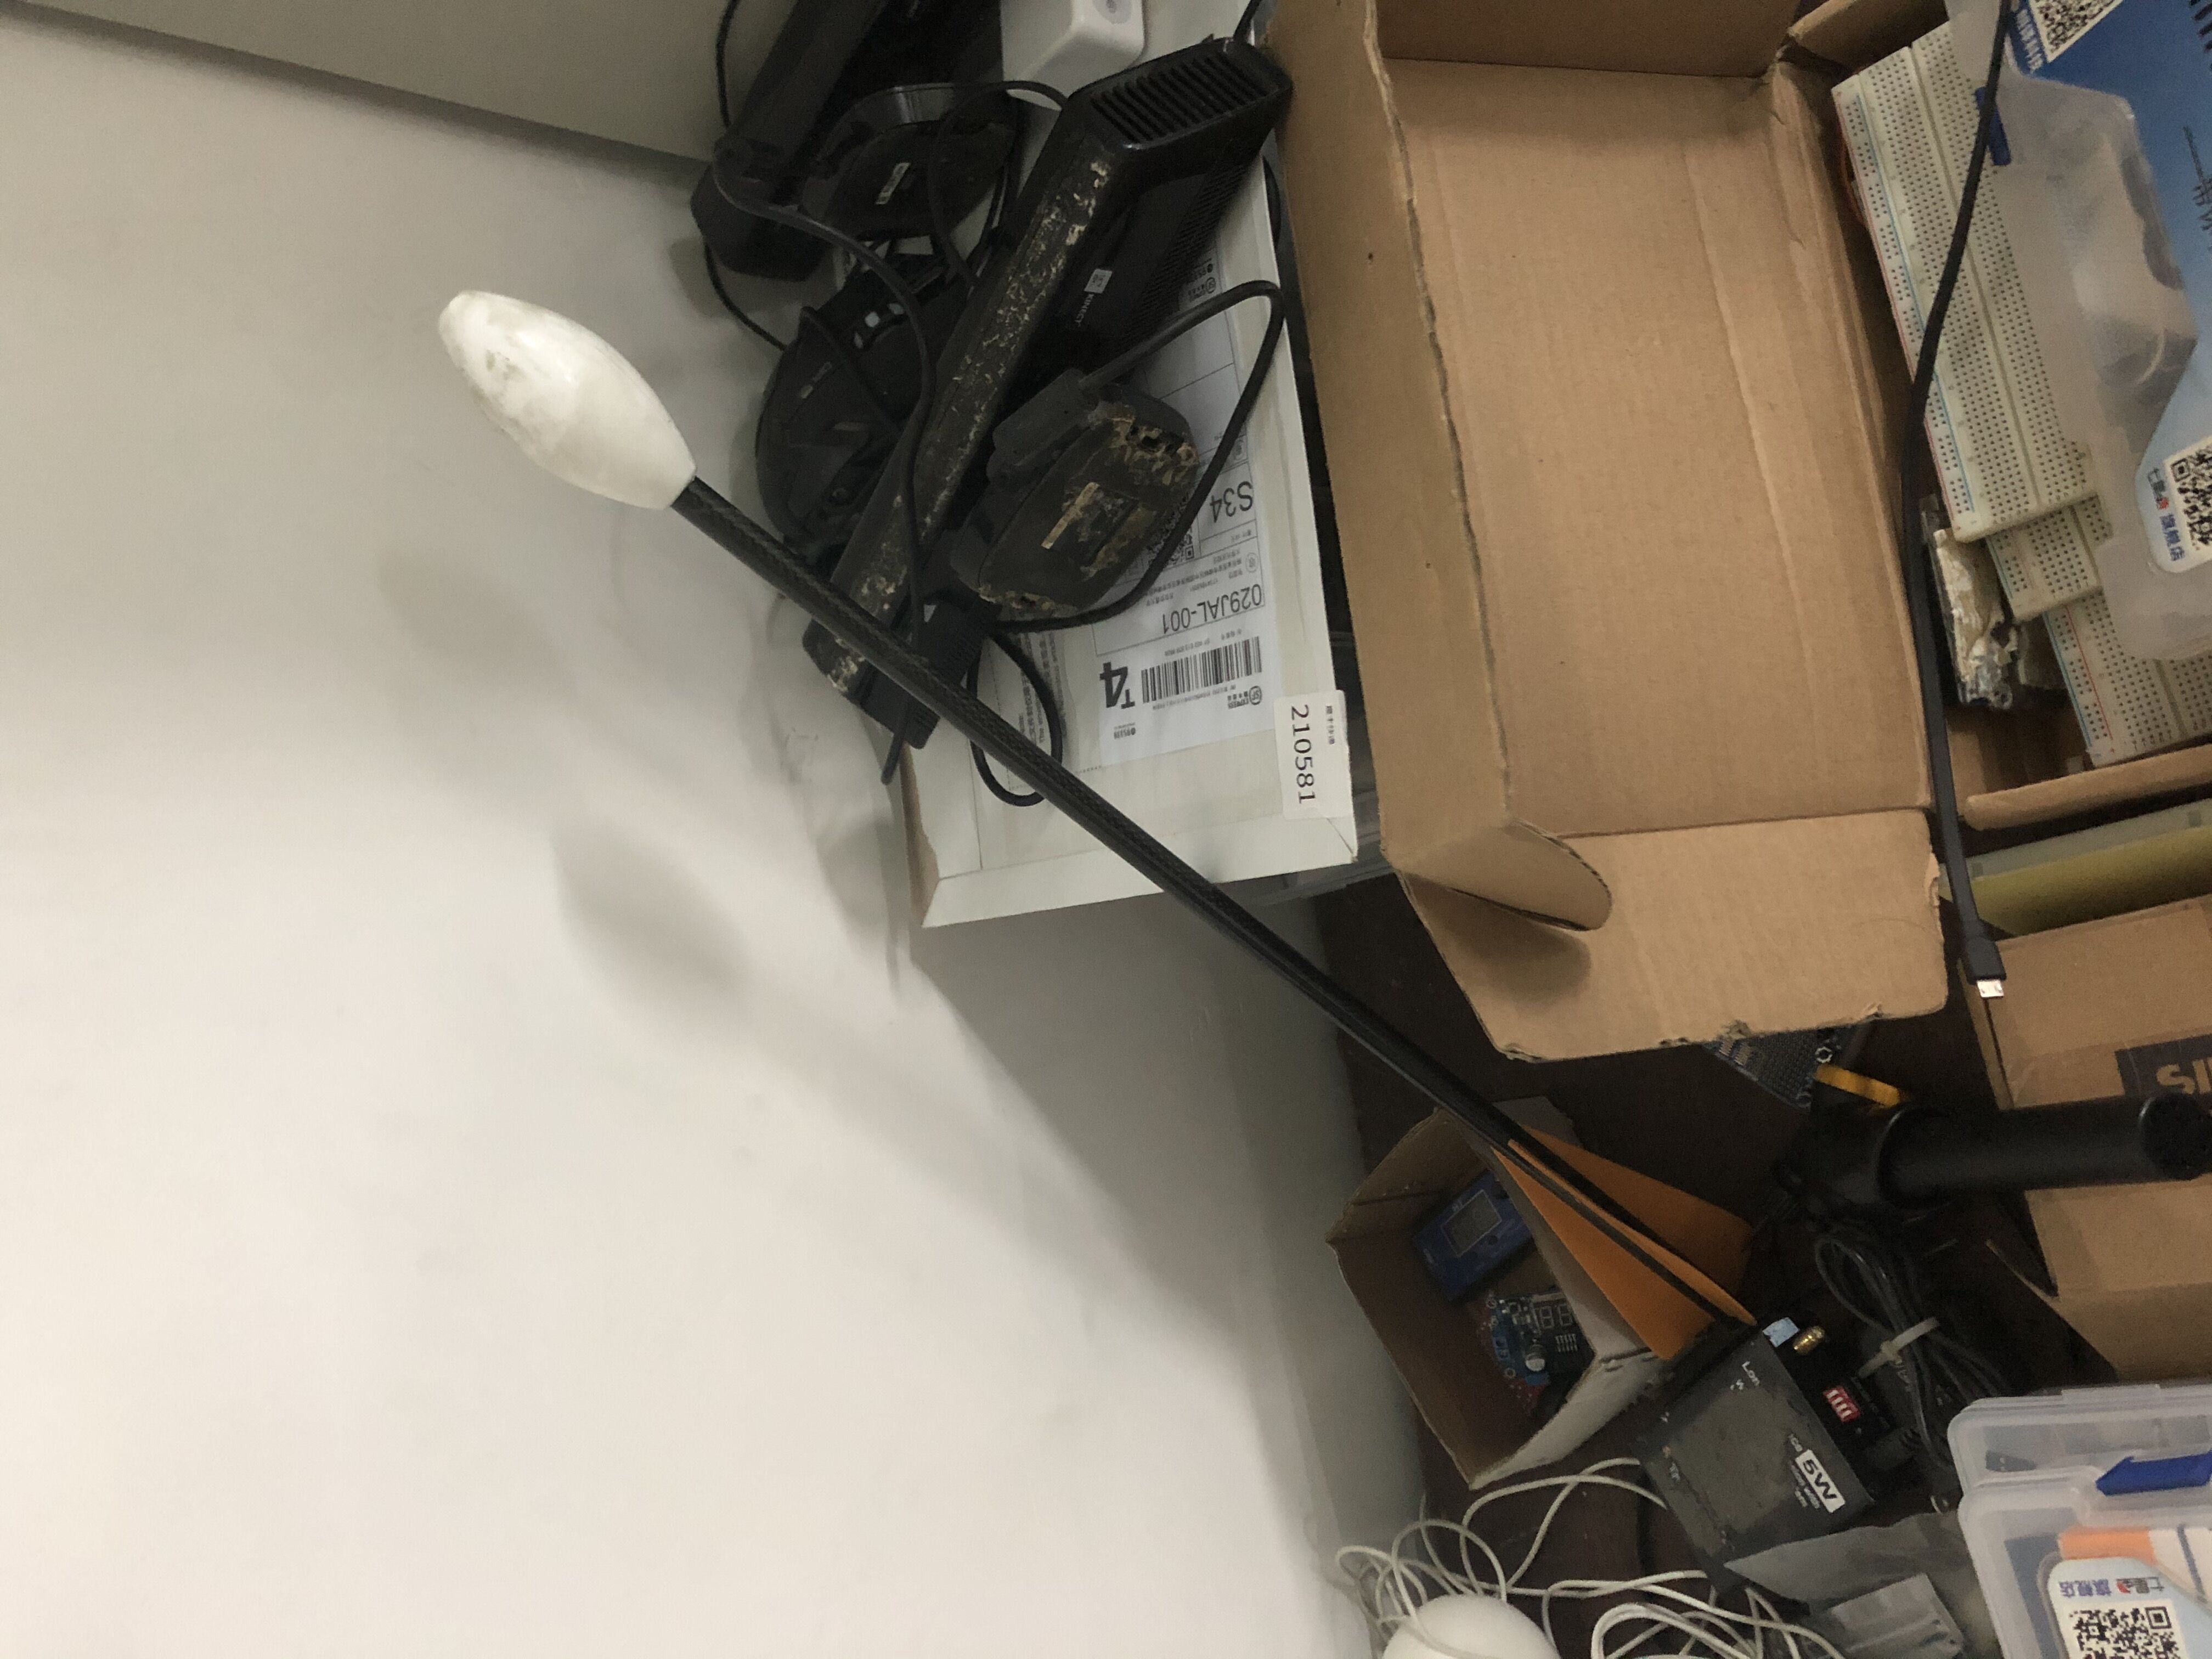arrow: (430, 281, 1775, 1370)
arrowFront: (428, 275, 711, 519)
